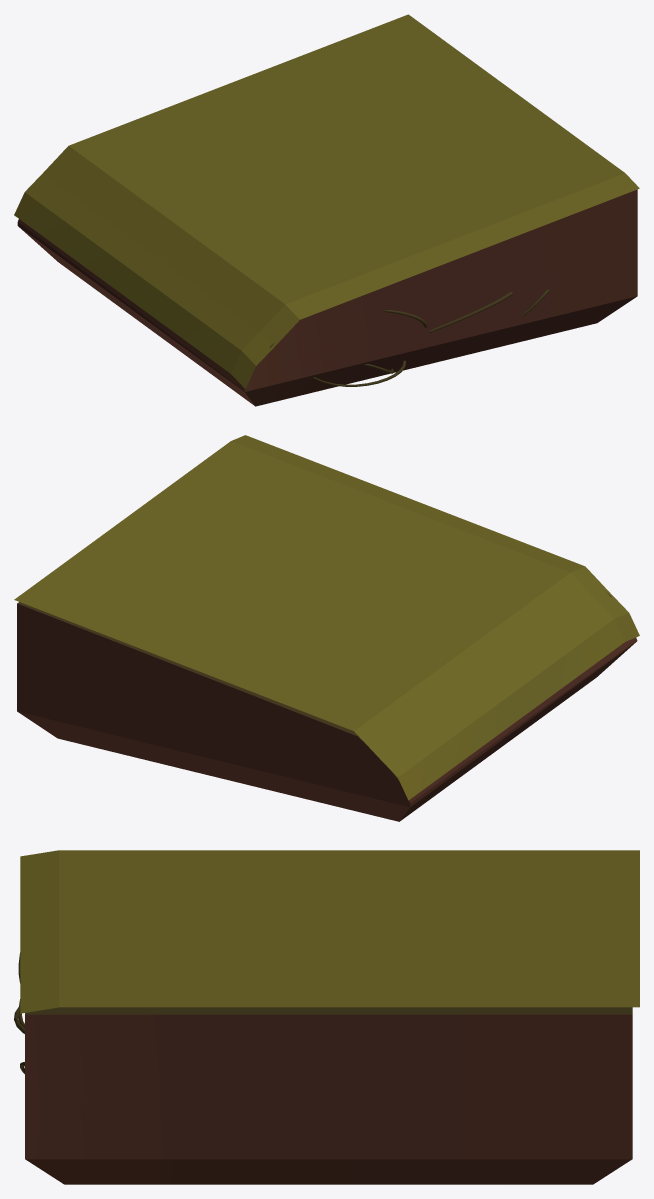
Rendered from zone 2 platform4.fbx.
3 views of the same model, one above another, from view 1: azimuth 30°, elevation 25°; view 2: azimuth 150°, elevation 25°; view 3: azimuth 270°, elevation 25° (orthographic). The views are drawn at different scales.
Parts seen in each view (by area): view 1: Cube.028; view 2: Cube.028; view 3: Cube.028.
Boxes of the visible parts, <box> form: Cube.028: <box>14,14,639,406</box>; Cube.028: <box>14,435,639,821</box>; Cube.028: <box>14,850,639,1184</box>.
Bounding box in the file's own units: 1055 × 371 × 1083.
